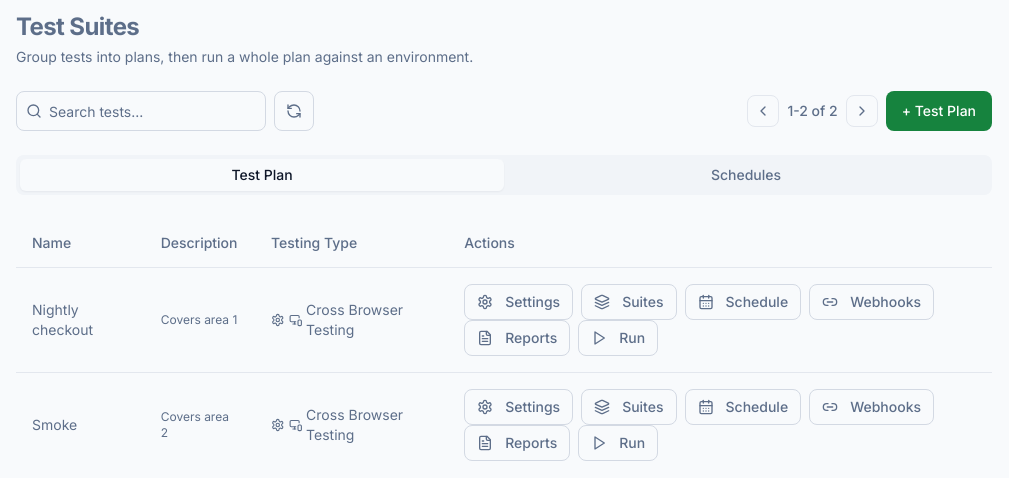
Test: TestPlansPage › narrows the list by name and clears the search again
expect the text "Smoke" is shown: met, box x1=32 y1=416 x2=77 y2=432
Type "smoke" into the search field with placeholder "Search tests...".
click(141, 111); type("smoke")  # box x1=16 y1=91 x2=266 y2=131
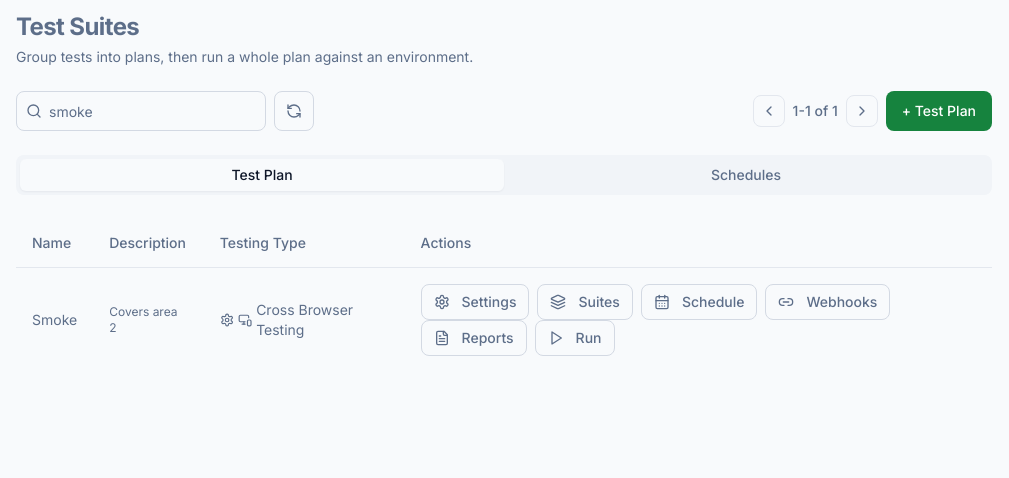
expect the text "Smoke" is shown: met, box x1=32 y1=310 x2=77 y2=330
expect the text "Nightly checkout" is gone: met
expect the text "1-1 of 1" is shown: met, box x1=793 y1=101 x2=838 y2=121
Replace the text in the search field with placeholder "Search tests..." with "nothing like this" at (141, 111), box x1=16 y1=91 x2=266 y2=131
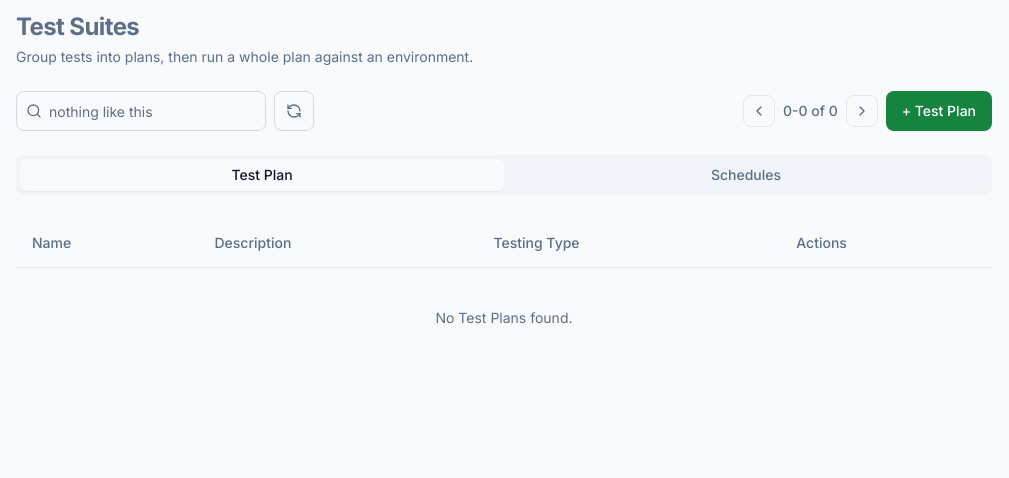
expect the text "No Test Plans found." is shown: met, box x1=16 y1=267 x2=992 y2=368
Click the button named "Clear search".
click(294, 111)  # box x1=274 y1=91 x2=314 y2=131
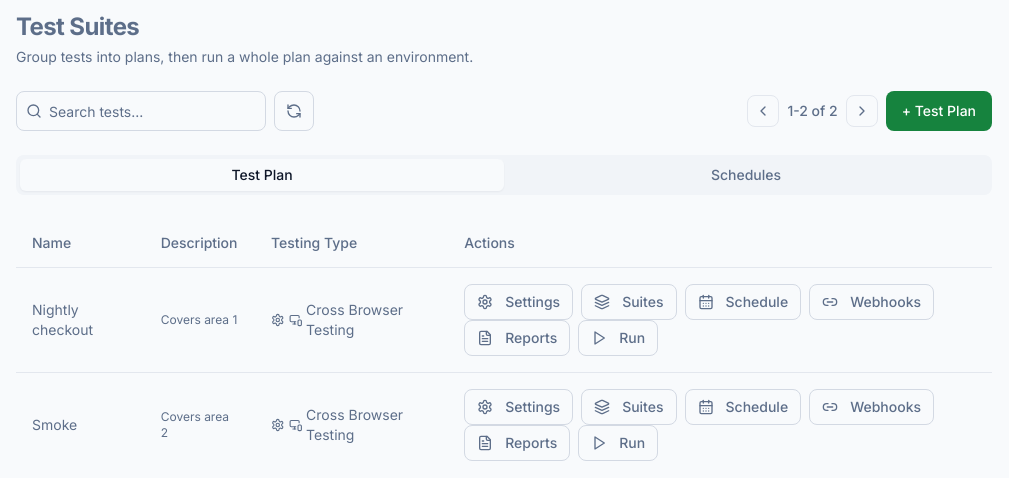
expect the search field with placeholder "Search tests..." is empty: met, box x1=16 y1=91 x2=266 y2=131
expect the text "Nightly checkout" is shown: met, box x1=32 y1=300 x2=93 y2=338
expect the text "1-2 of 2" is shown: met, box x1=787 y1=101 x2=838 y2=121
